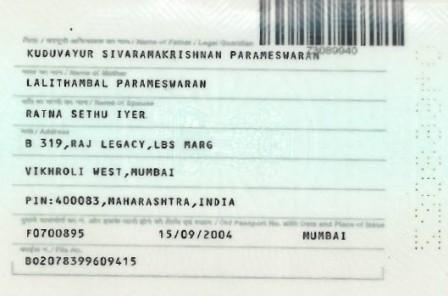File_no: (23, 255, 137, 267)
address: (15, 136, 379, 221)
father_name: (17, 45, 320, 63)
mother_name: (20, 76, 210, 90)
old_passport_details: (21, 222, 361, 246)
passport_no: (308, 44, 359, 56)
spouse_name: (23, 107, 145, 124)
